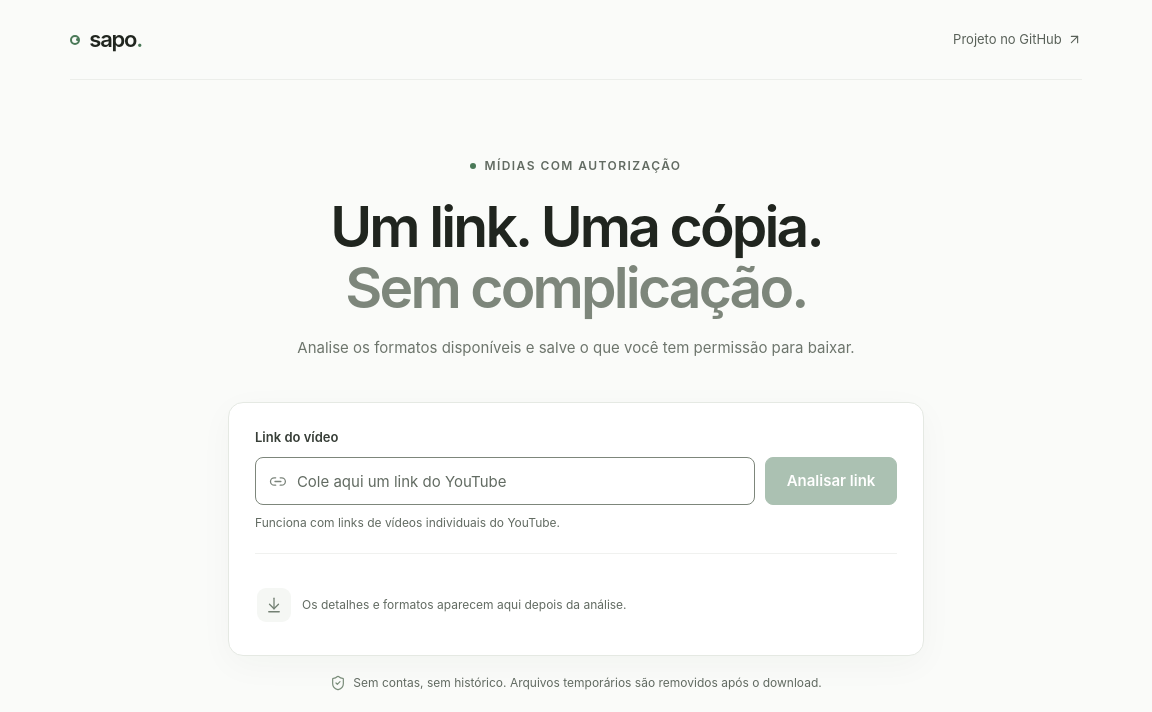
Test: Sapo Downloader › exibe uma mensagem clara quando a análise falha
Type "https://example.com" into the field labelled "Link do vídeo".
click(519, 481); type("https://example.com")  # box [297, 458, 741, 504]
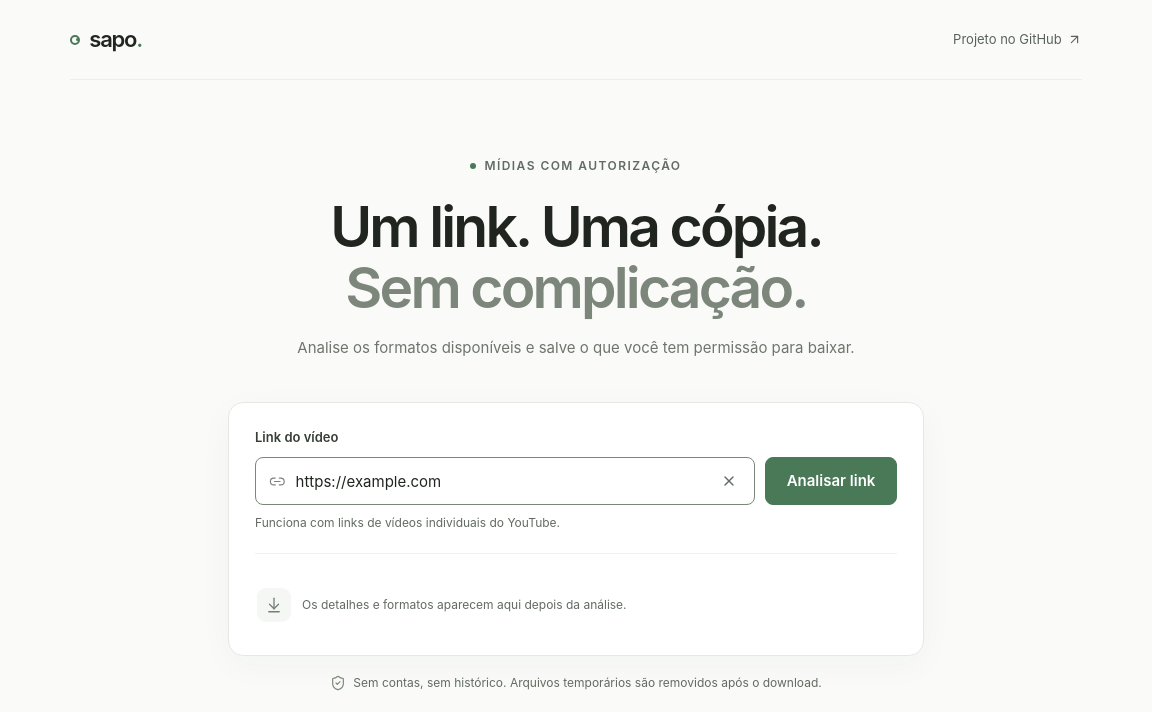
Click the button "Analisar link".
click(831, 481)  # box [765, 457, 897, 505]
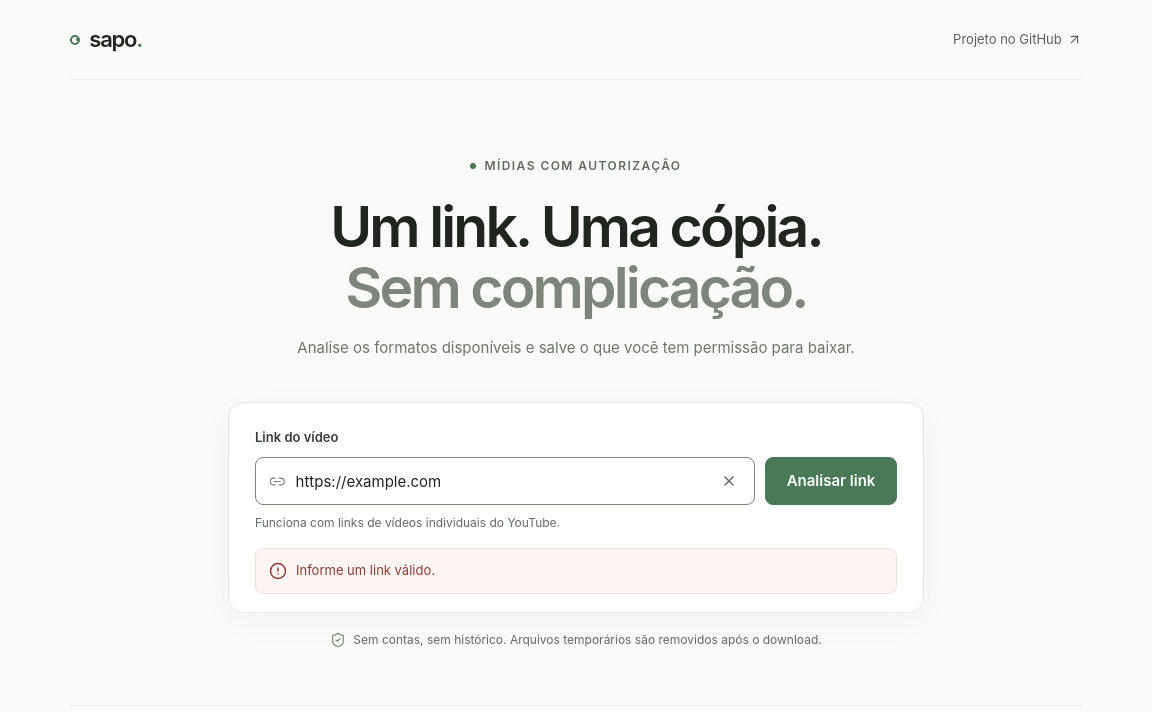
Now the message reads "Informe um link válido.", box [296, 562, 435, 578]
